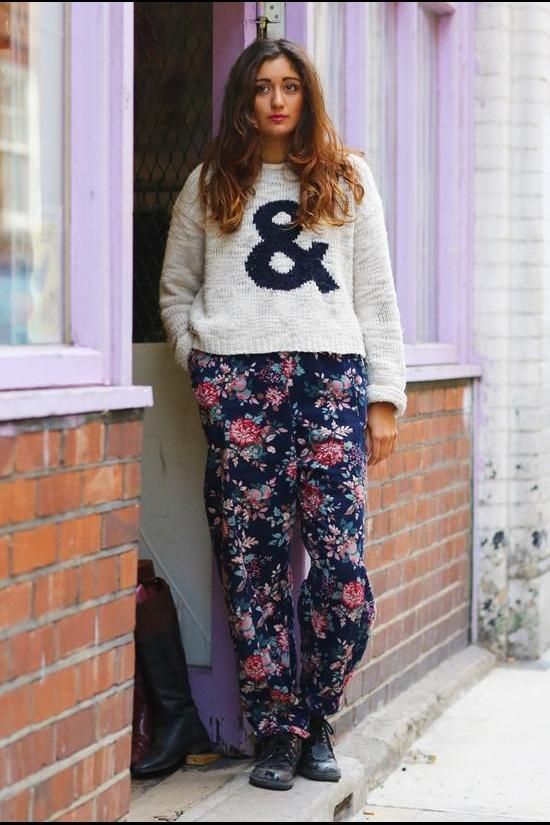pants: (189, 346, 376, 734)
sweater: (161, 152, 408, 410)
